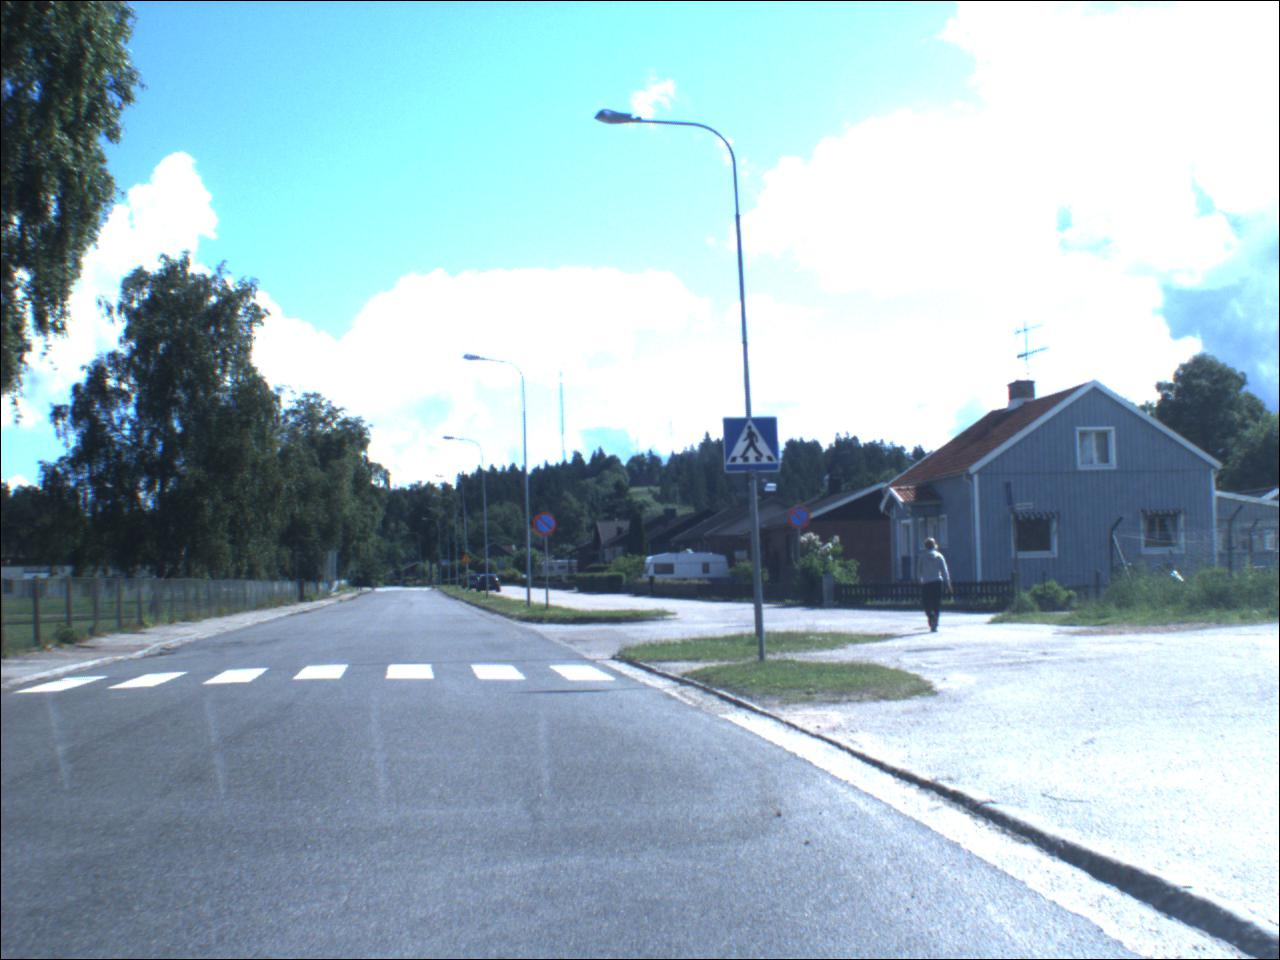NO_PARKING: (534, 513, 562, 540), (789, 508, 815, 534)
PEDESTRIAN_CROSSING: (724, 416, 784, 477), (442, 561, 451, 568)
WARNING_PEDESTRIANS: (462, 553, 474, 566)
